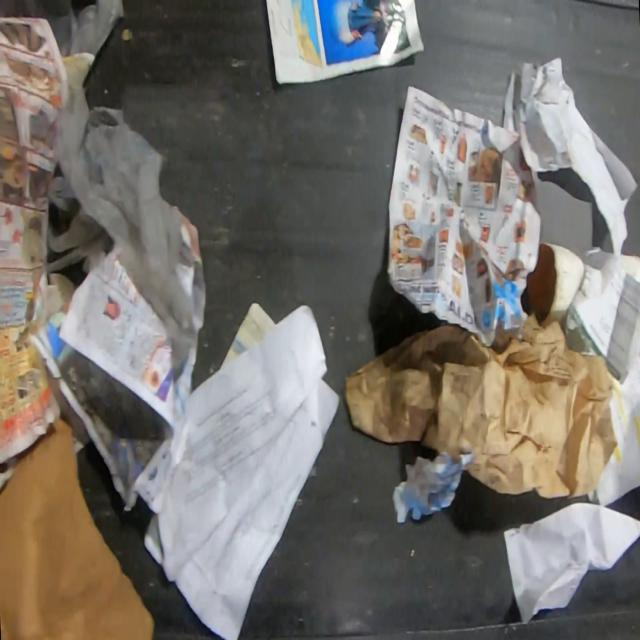cardboard: (0, 419, 156, 639), (528, 242, 587, 328)
soft_plastic: (51, 1, 209, 380)
